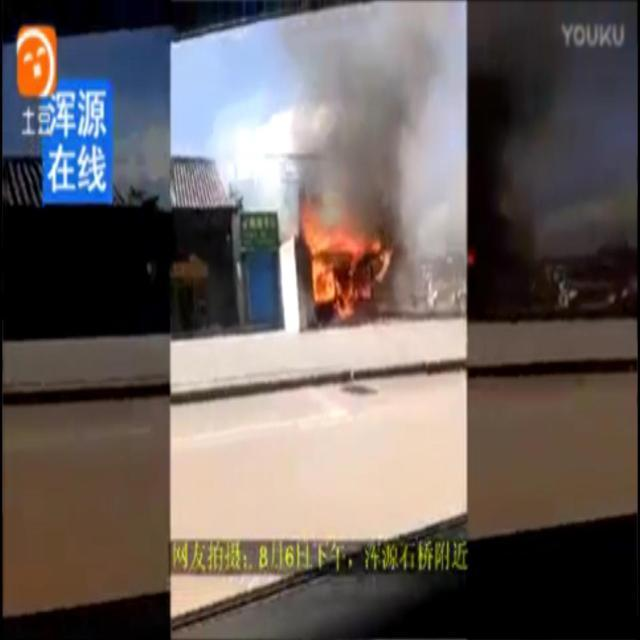Smoke: (288, 8, 448, 112)
